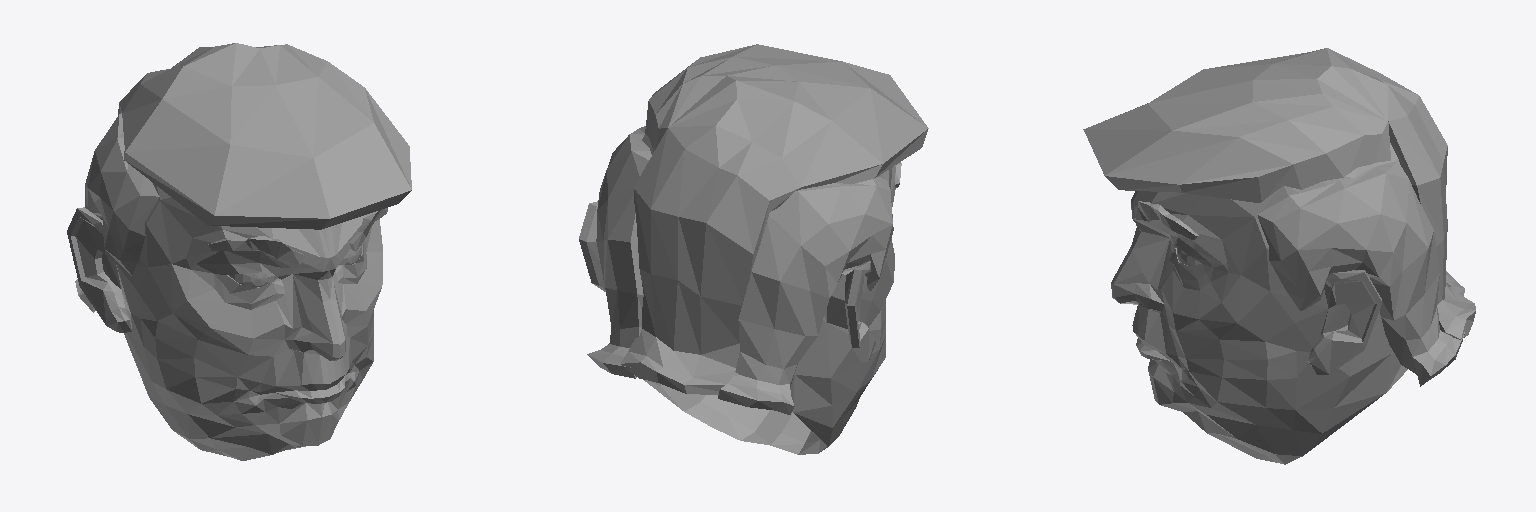
File: Trump_lowPoly.obj
3 views of the same model, side by side, from view 1: azimuth 30°, elevation 25°; view 2: azimuth 150°, elevation 25°; view 3: azimuth 270°, elevation 25° (orthographic).
Visible parts, largest first — view 1: Trump_lowPoly:Mesh; view 2: Trump_lowPoly:Mesh; view 3: Trump_lowPoly:Mesh.
Boxes of the visible parts, x1,y1,x2,y2 form: Trump_lowPoly:Mesh: [67, 43, 411, 460]; Trump_lowPoly:Mesh: [579, 44, 928, 454]; Trump_lowPoly:Mesh: [1083, 48, 1475, 464].
Size of the model in its own units: 4.38 by 5.84 by 5.39.